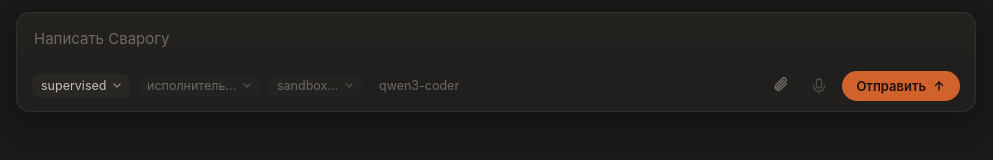
Test: поле ввода › показывает подсказки команд и вставляет выбранную
Type "/he" into the dropdown labelled "Написать Сварогу" at (496, 39), box [32,26,960,52]
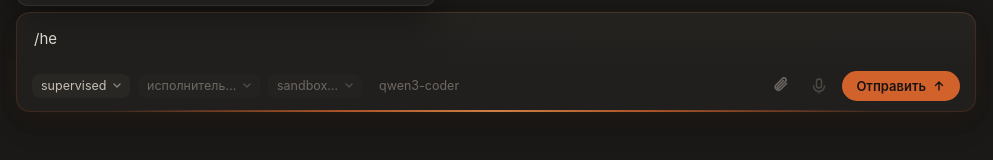
Press Enter
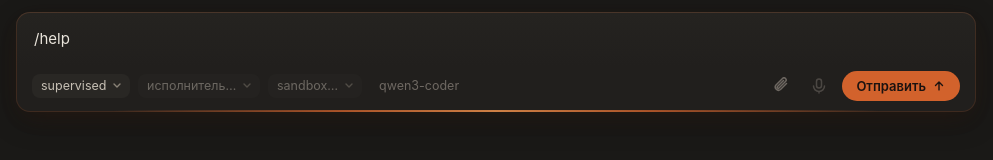
Result: the dropdown named "Написать Сварогу" holds "/help " at [32,26,960,52]
